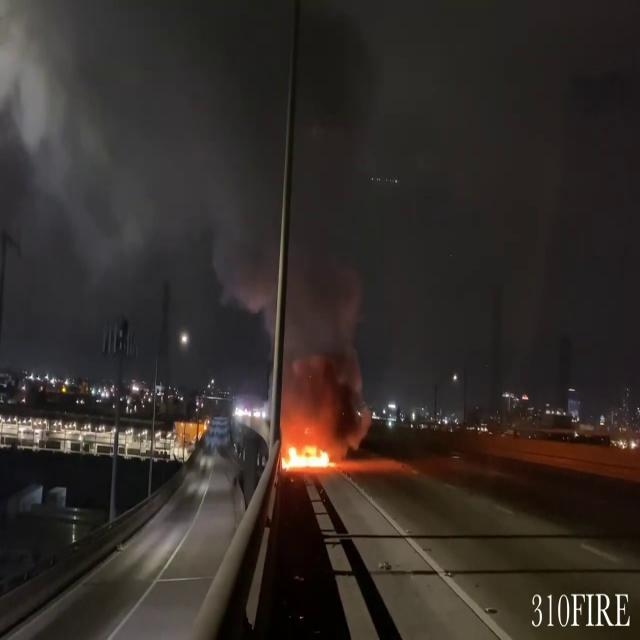Fire: (280, 425, 336, 478)
Smoke: (1, 0, 377, 374)
